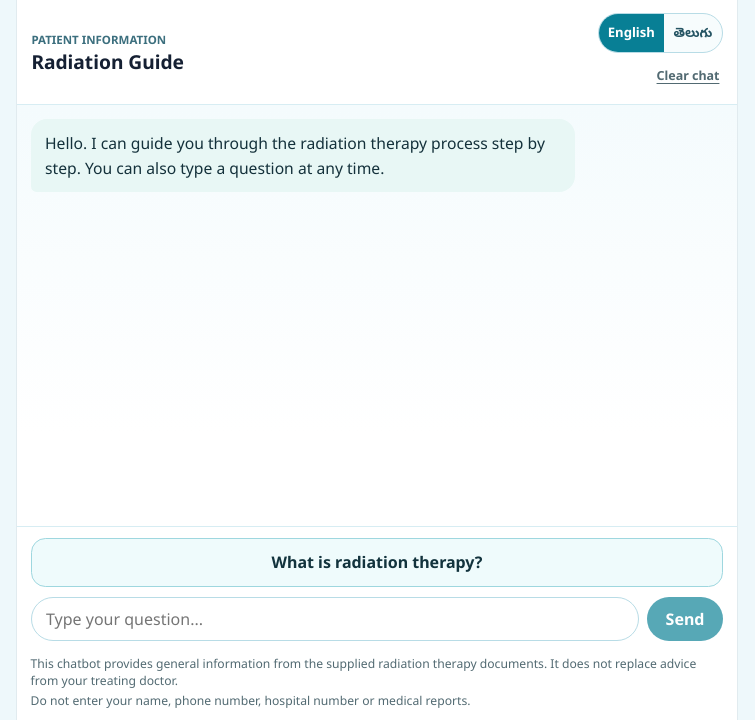
Test case: App guided radiation journey UI › advances repeatedly through the cached journey
Click the button "What is radiation therapy?": [377, 562] box x1=31 y1=538 x2=723 y2=587
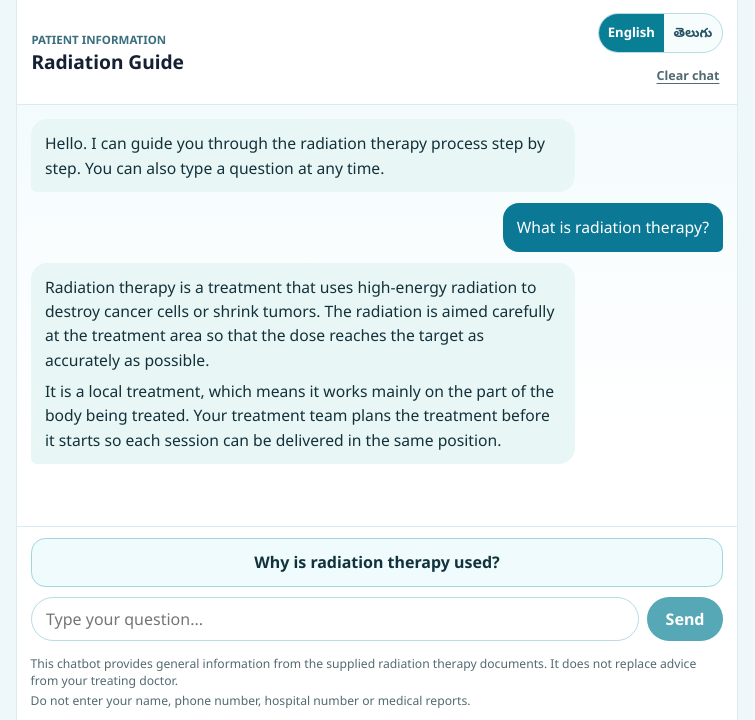
Click the button "Why is radiation therapy used?": [377, 562] box x1=31 y1=538 x2=723 y2=587
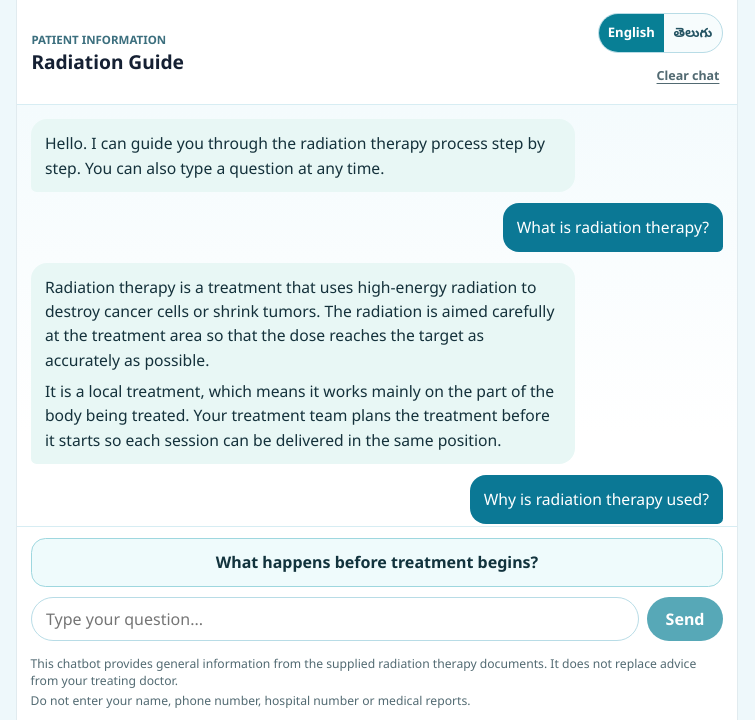
Click the button "What happens before treatment begins?": [377, 562] box x1=31 y1=538 x2=723 y2=587
(page scrolled)
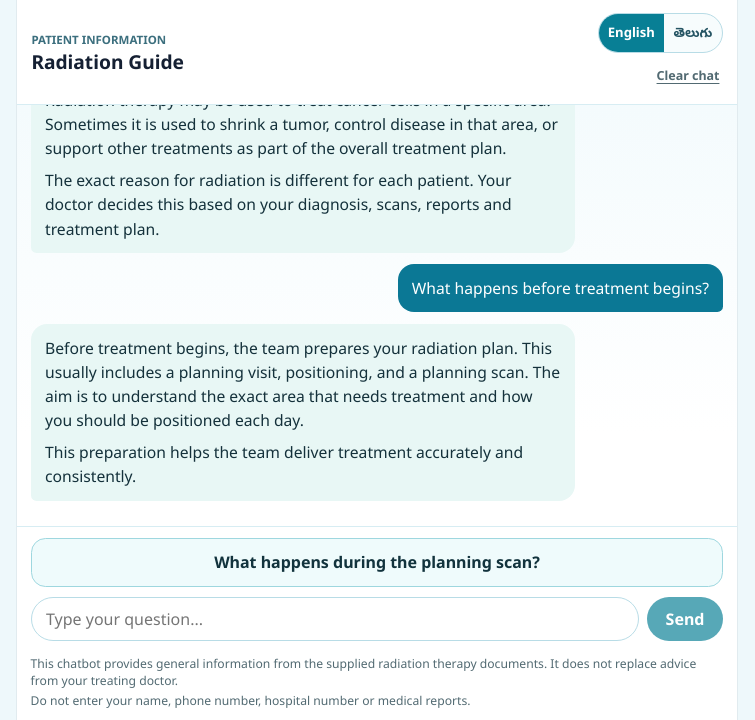
Result: the button "What happens during the planning scan?" is shown at x1=31 y1=538 x2=723 y2=587
Result: the text "planning visit, positioning, and a planning scan" is shown at x1=45 y1=336 x2=560 y2=431
